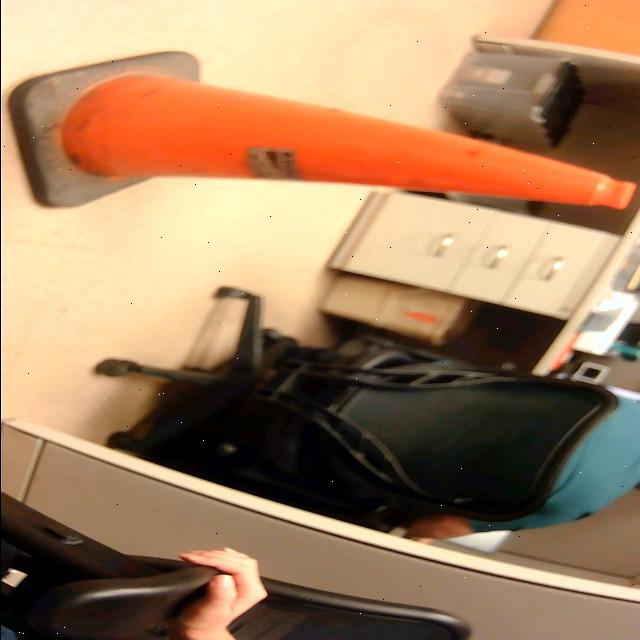traffic cone: (8, 47, 640, 225)
